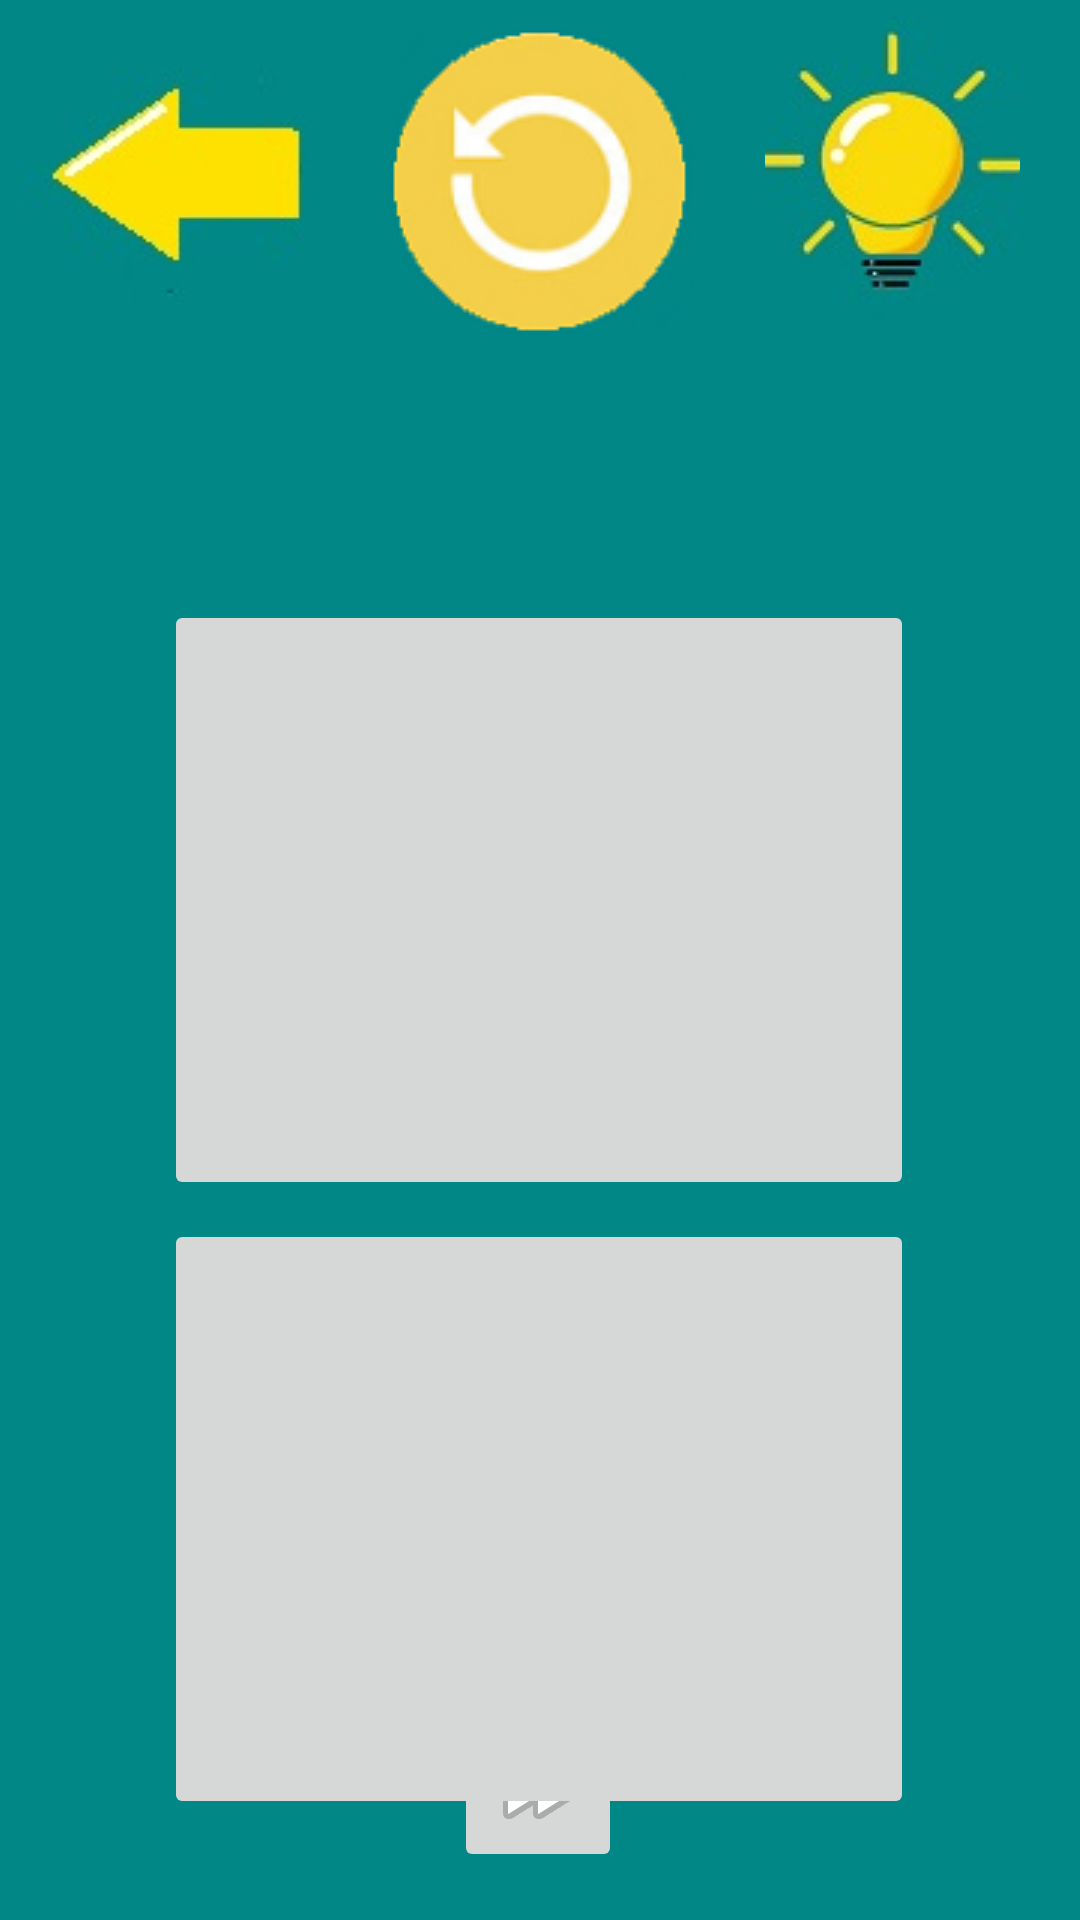

Screen size 1080px×1920px. Icon name, then its box in pixels as (left=x1, top=y1, right=x2, bottom=y2):
back ready: (left=50, top=85, right=303, bottom=292)
help ready: (left=765, top=30, right=1020, bottom=290)
replay ready: (left=393, top=32, right=686, bottom=331)
